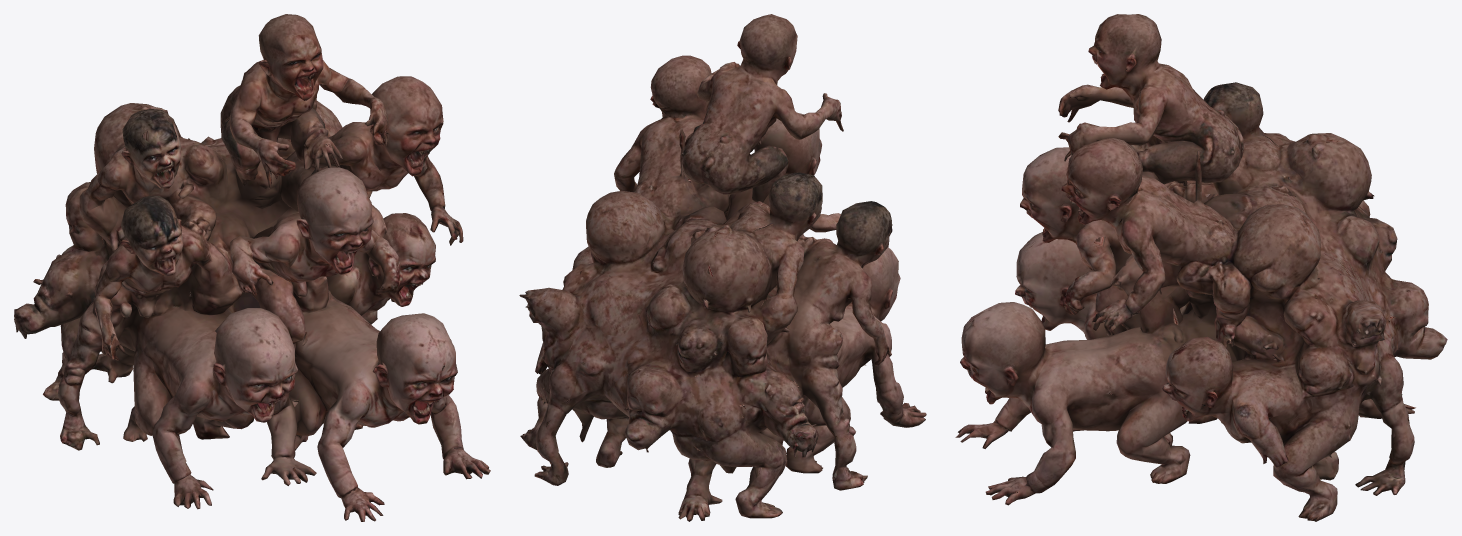
Rendered from baby.glb.
The picture shows the model from 3 angles, left to right: view 1: azimuth 30°, elevation 25°; view 2: azimuth 150°, elevation 25°; view 3: azimuth 270°, elevation 25°; orthographic projection. The views are drawn at different scales.
Parts seen in each view (by area): view 1: baby; view 2: baby; view 3: baby.
Part boxes in pixels (bbox=[...]): baby: bbox=[14, 14, 490, 521]; baby: bbox=[519, 14, 926, 521]; baby: bbox=[955, 14, 1447, 521].
Size of the model in its own units: 0.7682 by 0.9398 by 0.9782.
Materials: 1 (1 with a texture image).
